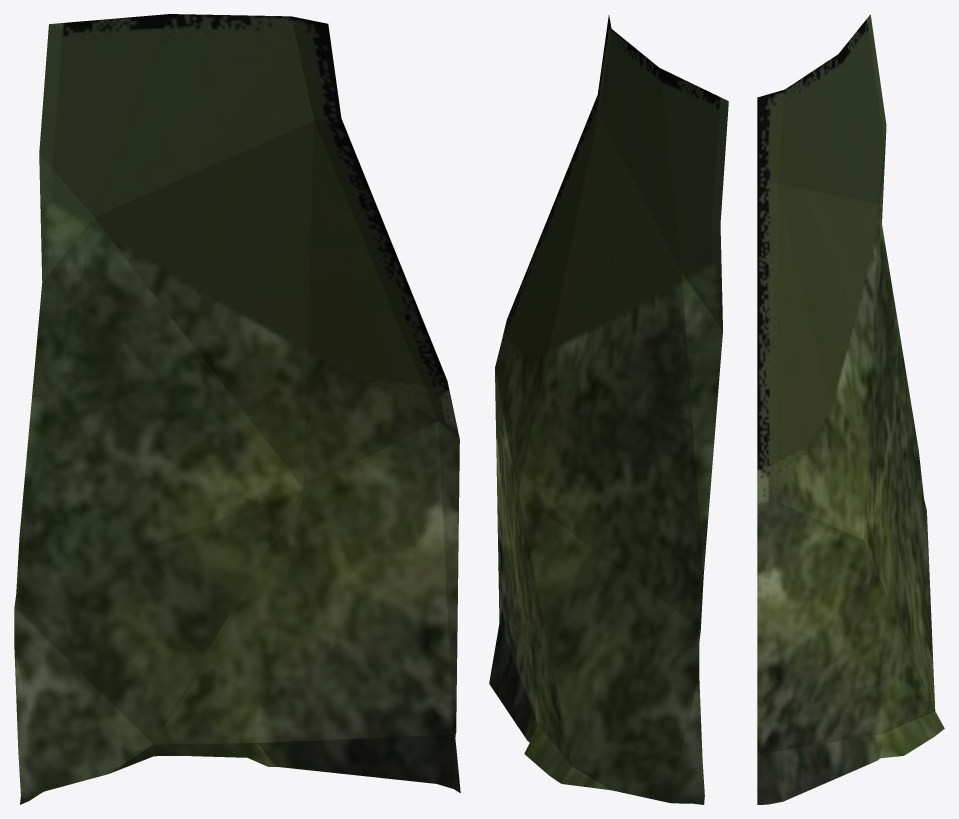
The picture shows the model from 3 angles, left to right: view 1: azimuth 30°, elevation 25°; view 2: azimuth 150°, elevation 25°; view 3: azimuth 270°, elevation 25°; orthographic projection. The views are drawn at different scales.
Bounding box in the file's own units: 2.63 × 5.9 × 1.53.
Materials: 2 (2 with a texture image).
